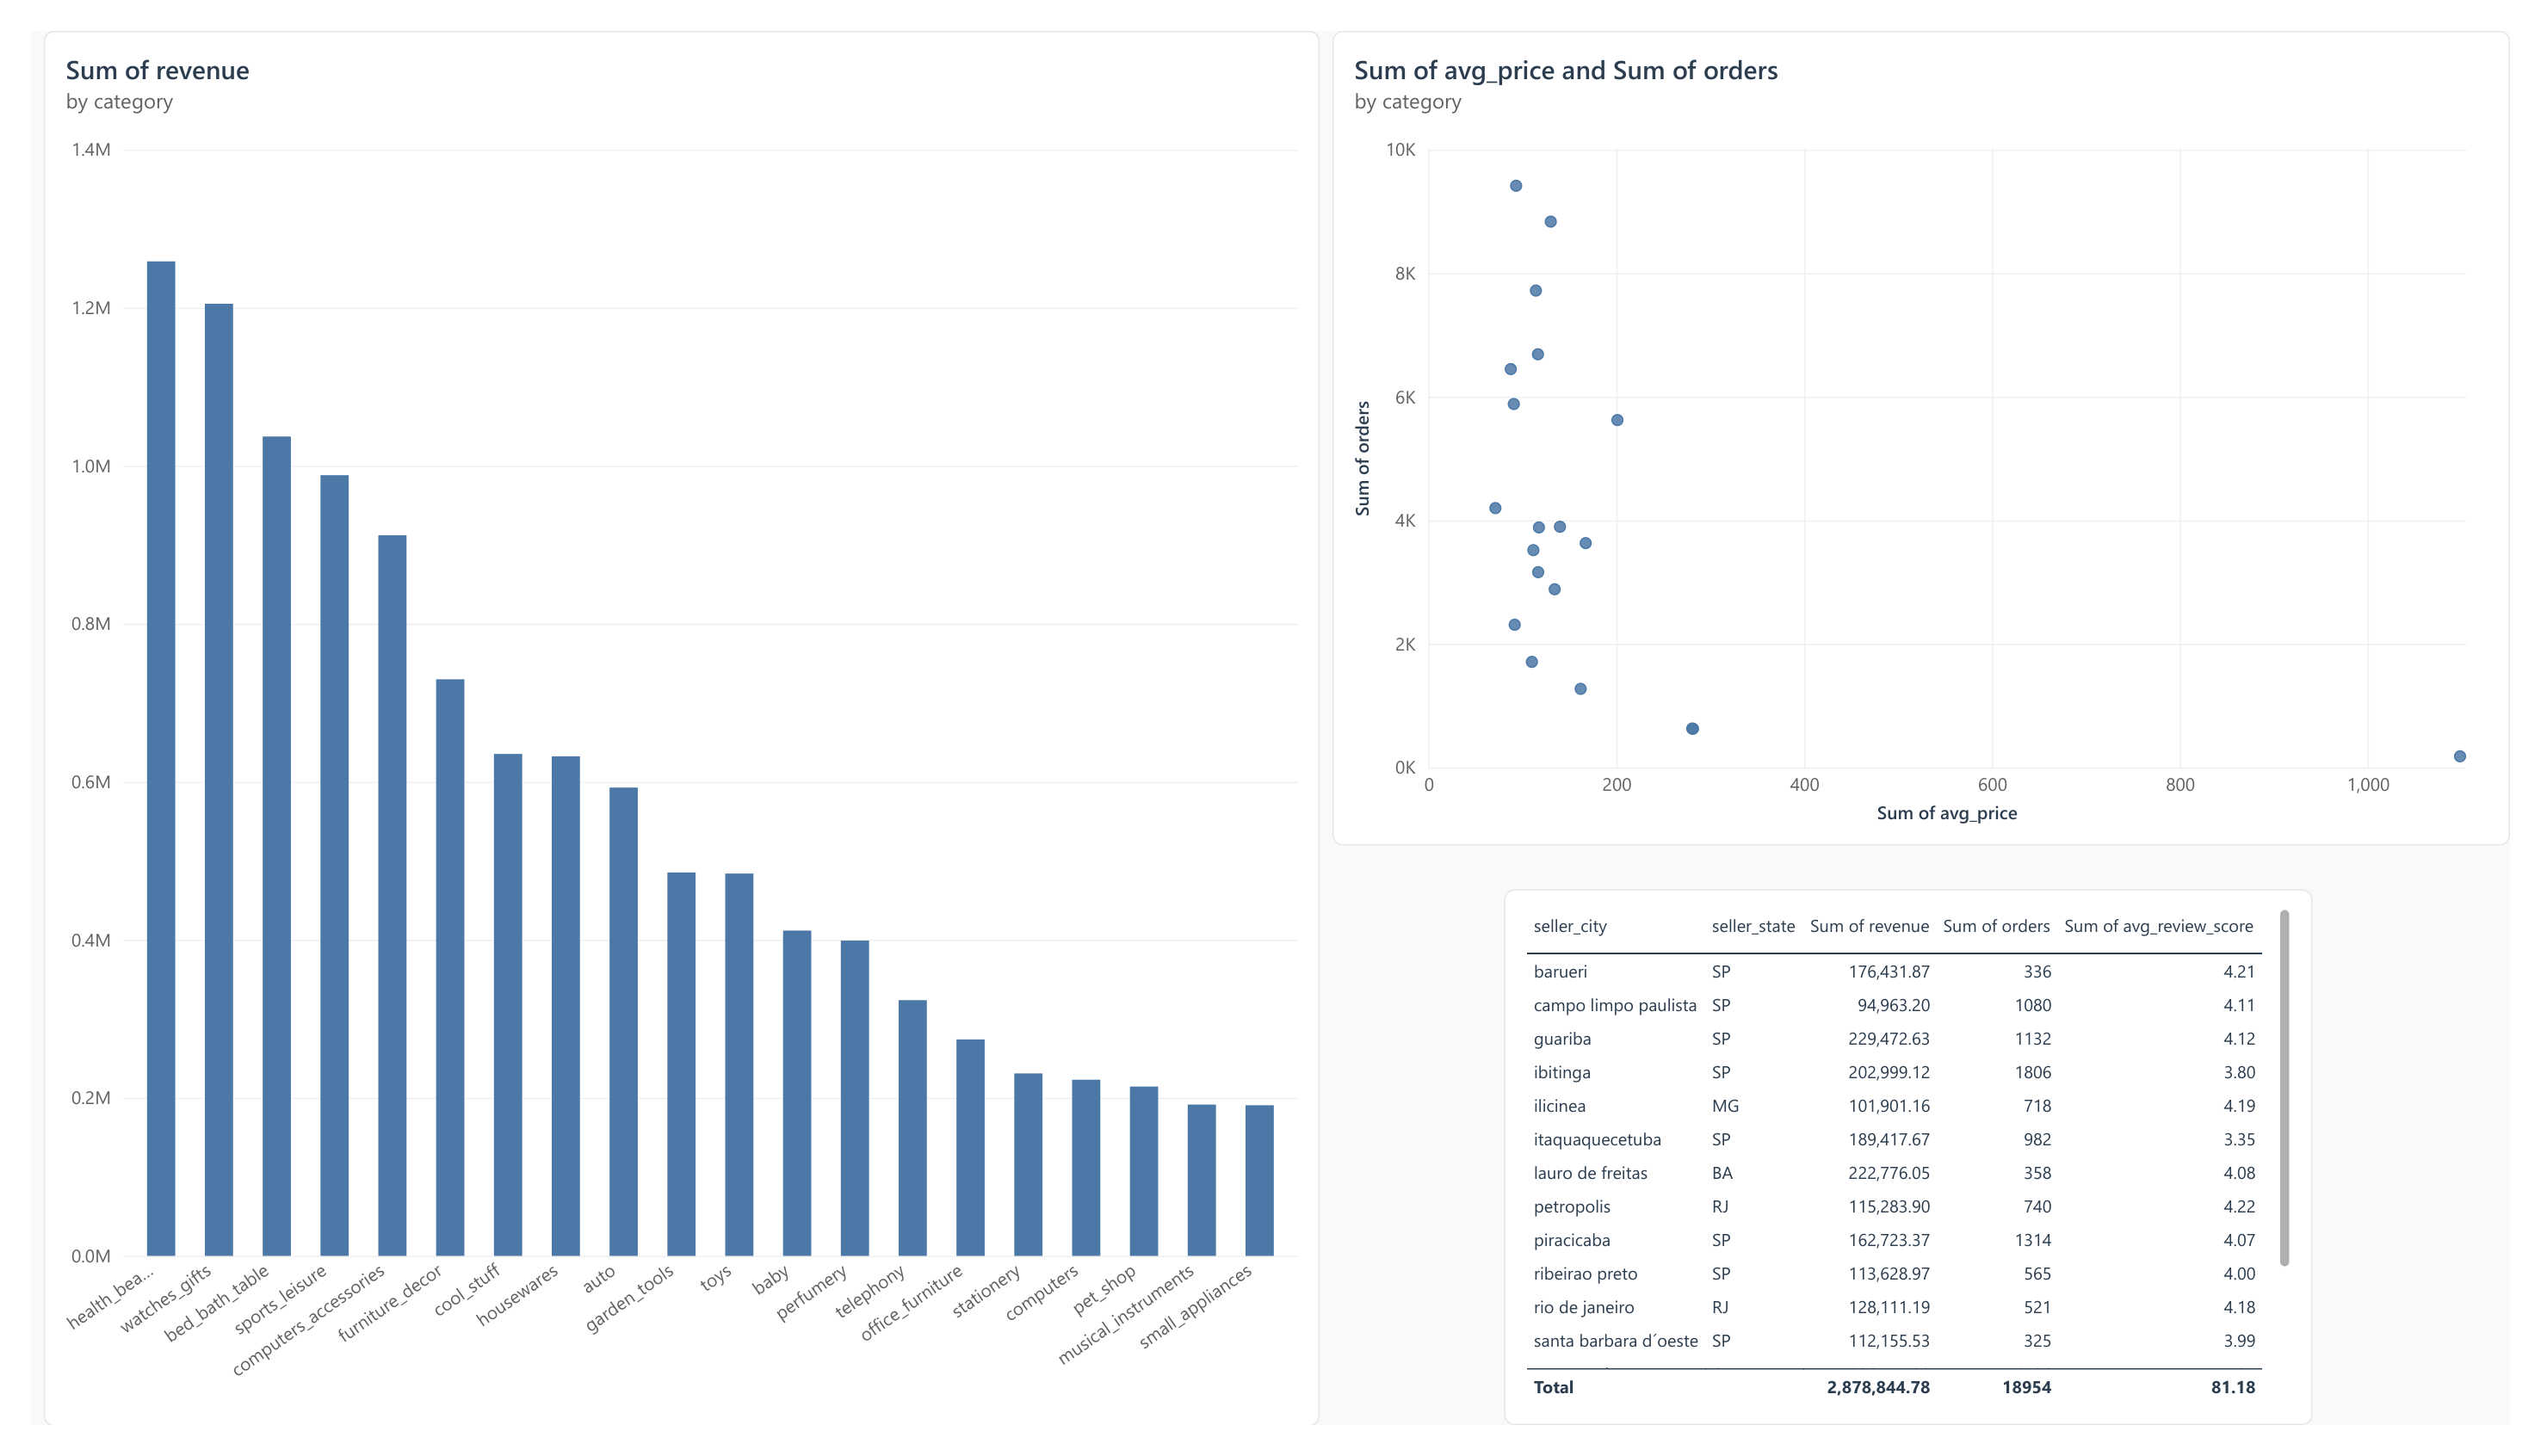

The dashboard page shown, as its layout file describes it:
{"tool":"powerbi","page":{"name":"Products & Sellers","canvas":[1920,1080],"ordinal":3},"visuals":[{"type":"columnChart","fields":{"Category":["top_categories.category"],"Y":["Sum(top_categories.revenue)"]},"box":[10.3,0,988,1080.6],"z":0},{"type":"scatterChart","fields":{"Category":["top_categories.category"],"X":["Sum(top_categories.avg_price)"],"Y":["Sum(top_categories.orders)"]},"box":[1008.1,0,912.2,631.4],"z":1000},{"type":"tableEx","fields":{"Values":["top_sellers.seller_city","top_sellers.seller_state","Sum(top_sellers.revenue)","Sum(top_sellers.orders)","Sum(top_sellers.avg_review_score)"]},"box":[1140.7,664.5,626.2,415.1],"z":1001}]}

Visuals, with their boxes in screenshot pixels (x1, y1, x2, y2), scaled from the page's 1920x1080 canvas onto the 2541x1456 screenshot:
columnChart - top_categories.category x Sum(top_categories.revenue): crop(14, 0, 1321, 1455)
scatterChart - top_categories.category x Sum(top_categories.avg_price): crop(1334, 0, 2540, 851)
tableEx - top_sellers.seller_city x top_sellers.seller_state: crop(1510, 896, 2339, 1455)
